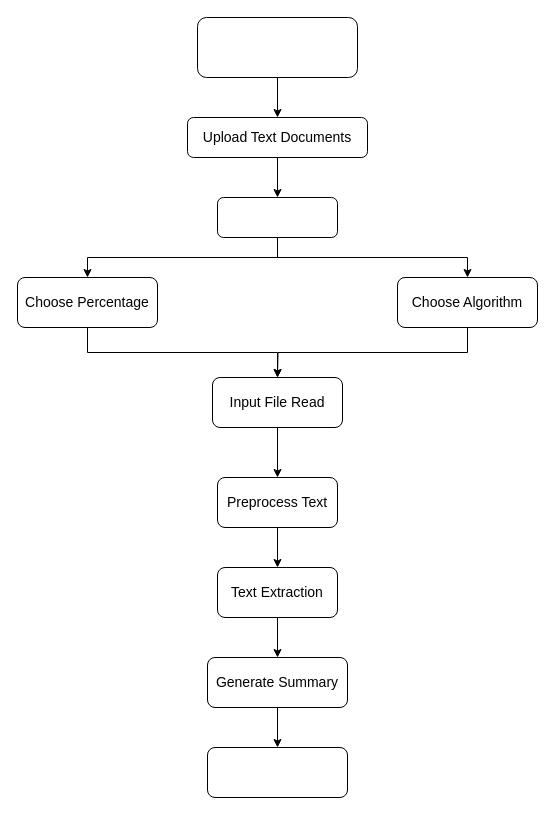
Some shapes in this 555 by 815 pixel diagram are drawn without their labels. The centre of each missing label's shape, as x and y in pixels:
Display Summary: (277,772)
Select Options: (277,217)
TextSummarizer: (277,47)
